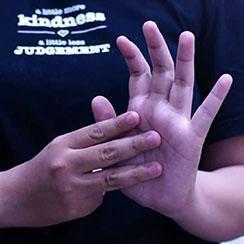M: (4, 0, 237, 243)
